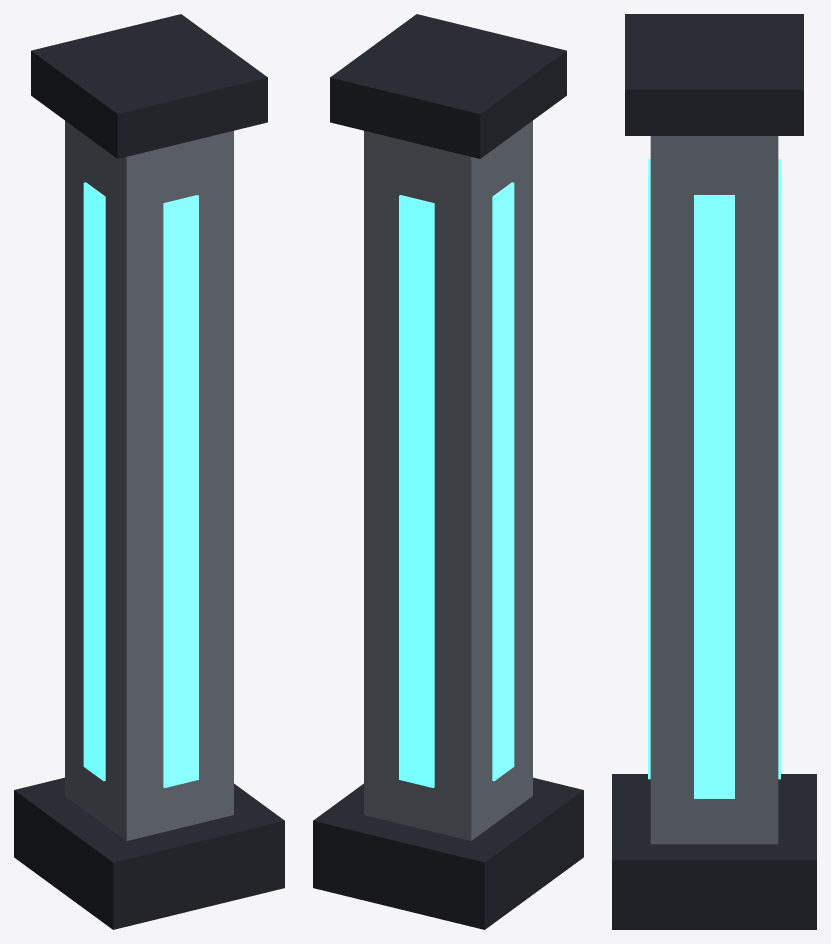
Rendered from light_pillar.fbx.
3 renders of one model, left to right at view 1: azimuth 30°, elevation 25°; view 2: azimuth 150°, elevation 25°; view 3: azimuth 270°, elevation 25°, orthographic. The views are drawn at different scales.
Parts seen in each view (by area): view 1: light_pillar; view 2: light_pillar; view 3: light_pillar.
Boxes of the visible parts, box(x1,y1,x2,y2) form: light_pillar: box(14, 14, 284, 929); light_pillar: box(313, 14, 583, 929); light_pillar: box(612, 14, 816, 929).
Size of the model in its own units: 0.4 by 1.8 by 0.4.
